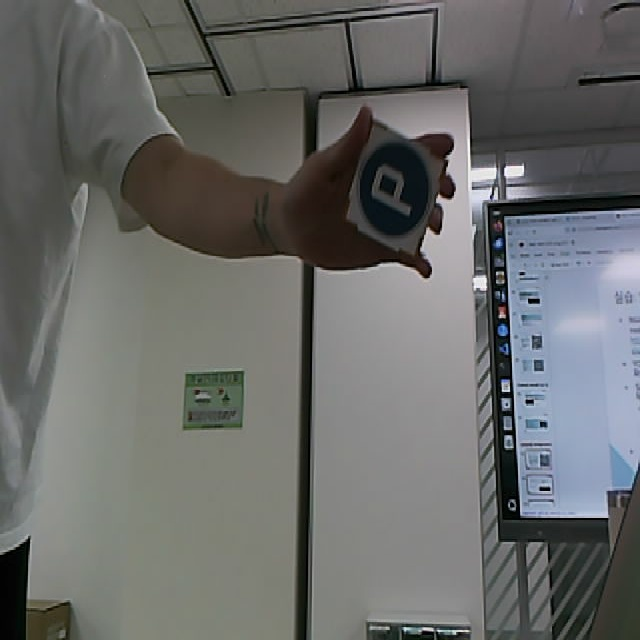parking: (345, 120, 448, 263)
